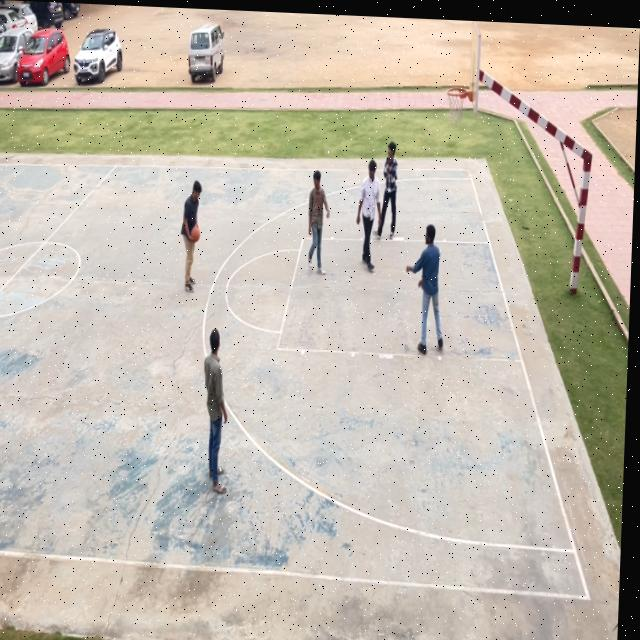basketball: (191, 224, 203, 245)
hoop: (445, 87, 469, 125)
